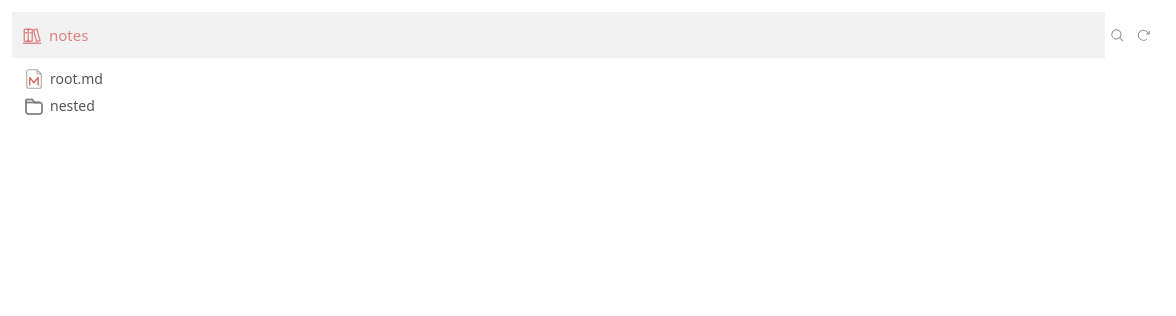
Test: keeps current-folder results visible while requested descendant folders are scanning
Step 1. Click the button named "搜索工作区" → point(1118, 35), box 1105,22 -> 1130,48
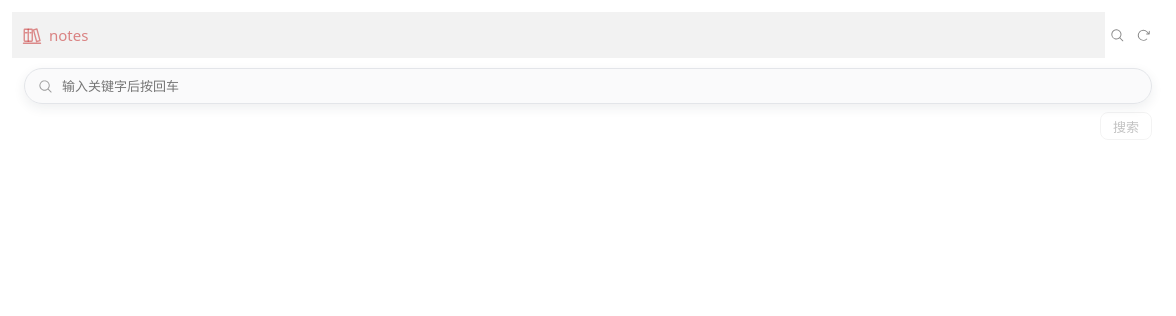
Step 2. Type "needle" into the search field named "搜索工作区" → point(598, 86), box 53,72 -> 1144,100
Then press Enter
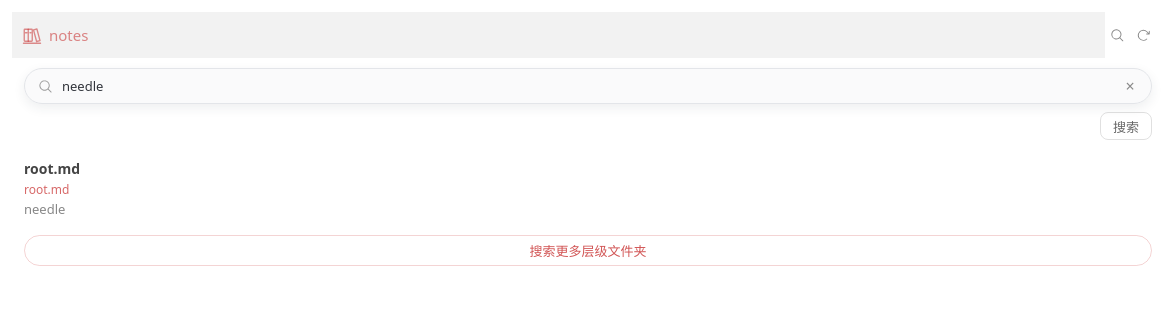
Expected: the button "root.md root.md needle" is shown, 12,152 -> 1164,226
Step 3. Click the button "搜索更多层级文件夹" → point(588, 250), box 24,234 -> 1152,266
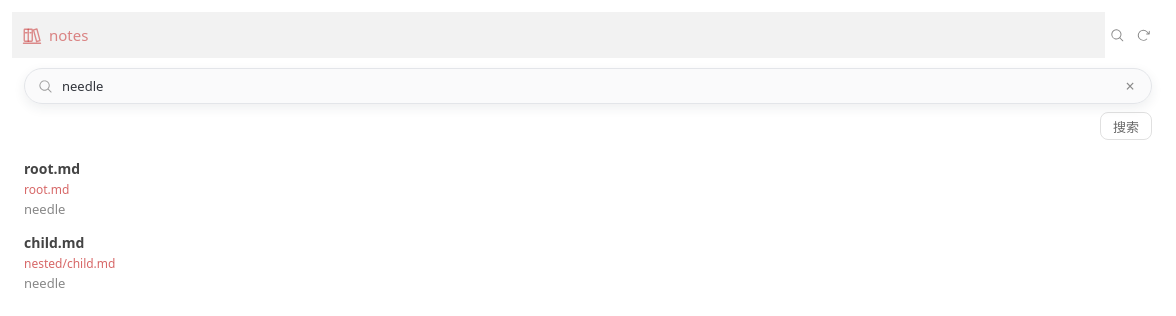
Expected: the button "child.md nested/child.md needle" is shown, 12,226 -> 1164,299
